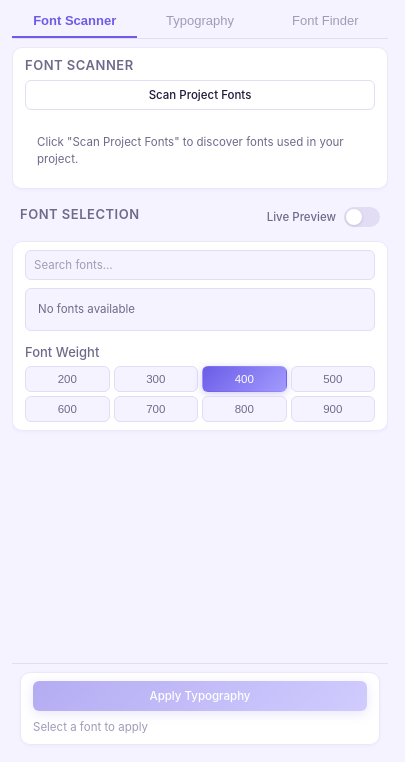
Scenario: App Integration Tests › Error Recovery Scenarios › should display error and allow retry when scan fails
The width and height of the screenshot is (405, 762).
Click the button "Scan Project Fonts".
click(200, 94)  # box [25,80,375,110]
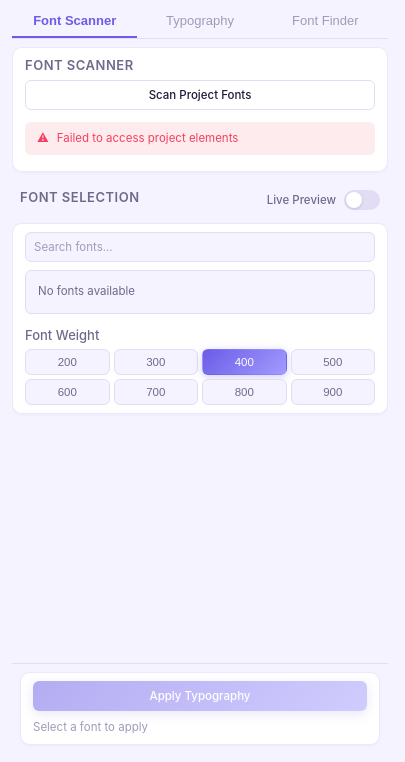
Expected: the message "⚠ Failed to access project elements" is shown, [25,122,375,155]
Retry scan
Click the button "Scan Project Fonts".
click(200, 94)  # box [25,80,375,110]
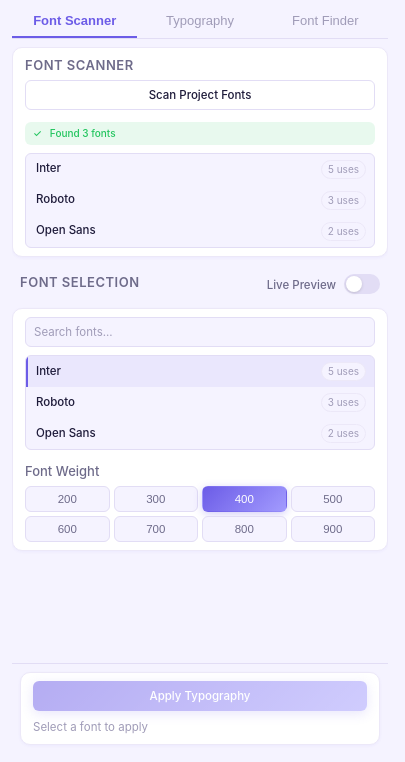
Expected: the text "Inter" below "Found" is shown, [36,161,61,175]
